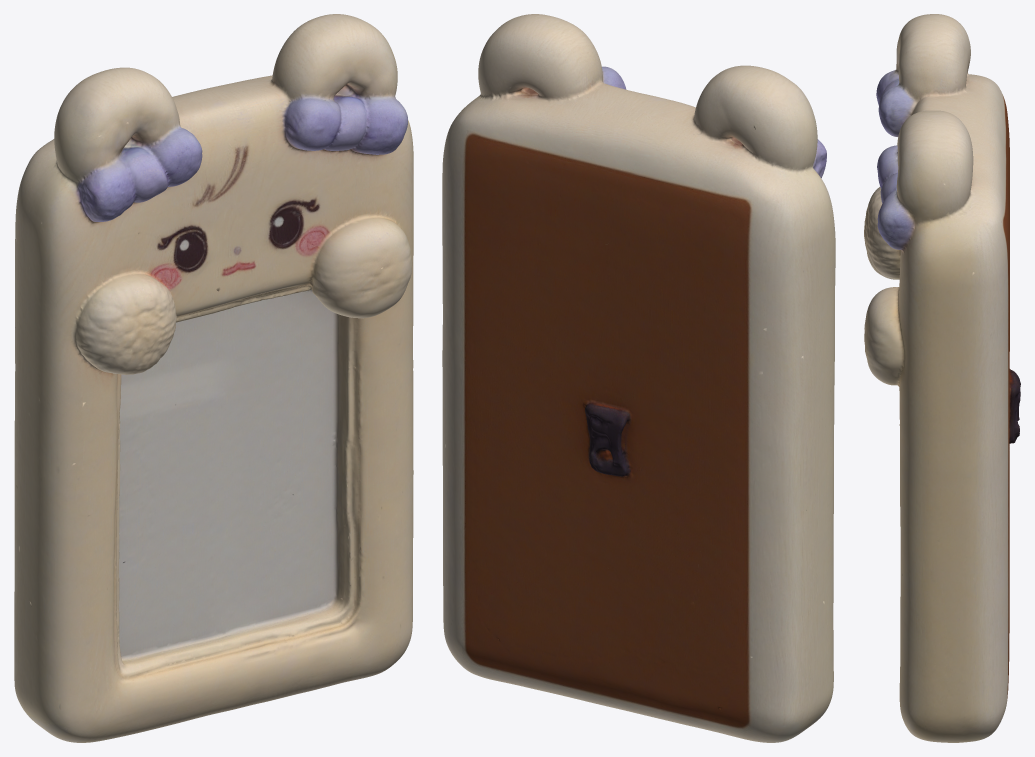
File: profile-card-holder.glb
The picture shows the model from 3 angles, left to right: view 1: azimuth 30°, elevation 25°; view 2: azimuth 150°, elevation 25°; view 3: azimuth 270°, elevation 25°; orthographic projection. The views are drawn at different scales.
Size of the model in its own units: 1.18 by 2 by 0.4685.
1 material, 1 textured.
